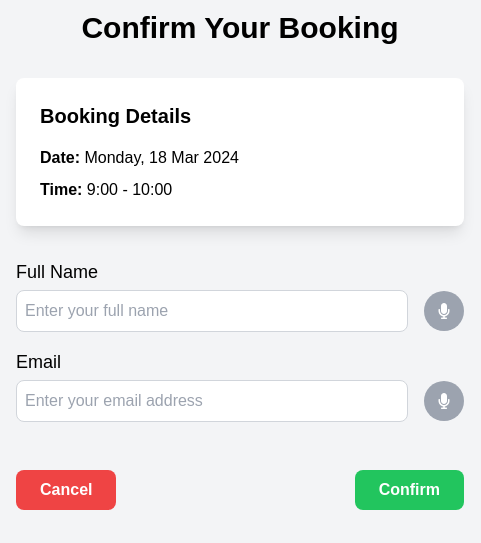
Test: ConfirmationPage › shows validation errors for invalid email
Type "John Smith" into the field labelled "Full Name" at (212,311), box [16,290,408,332]
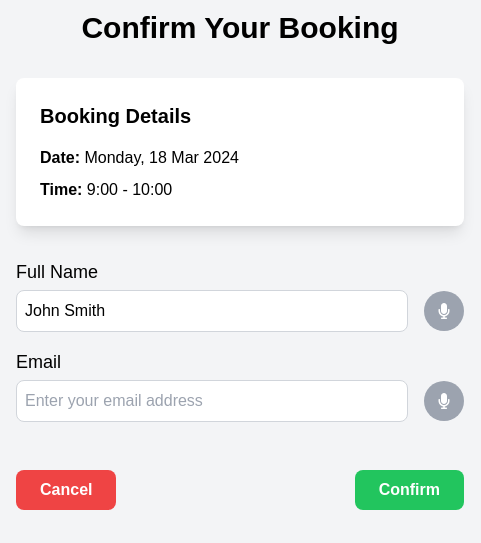
Type "invalid-email" into the field labelled "Email" at (212,401), box [16,380,408,422]
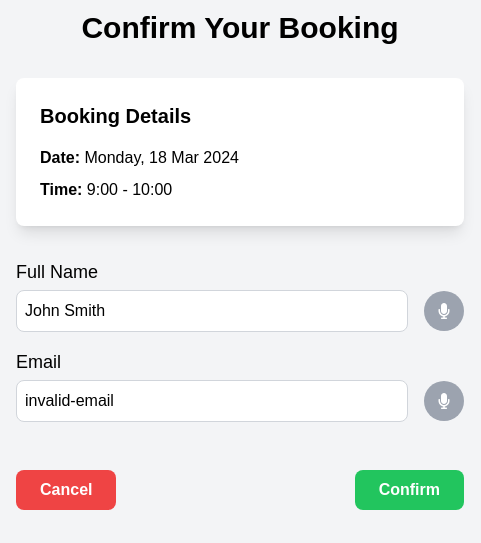
Click the button "Confirm" at (409,490), box [355,470,464,510]
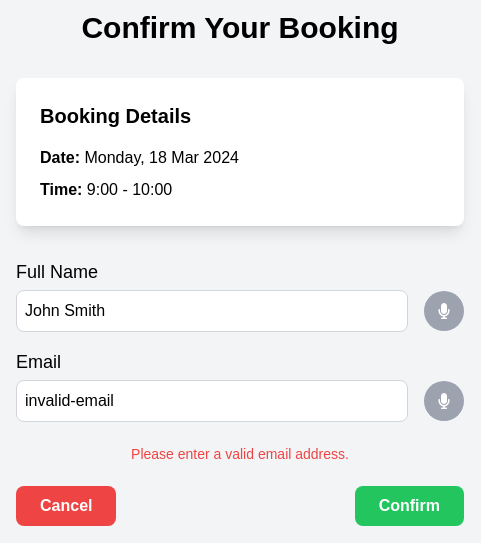
Expected: the text "Please enter a valid email address." is shown, [131,444,349,464]
